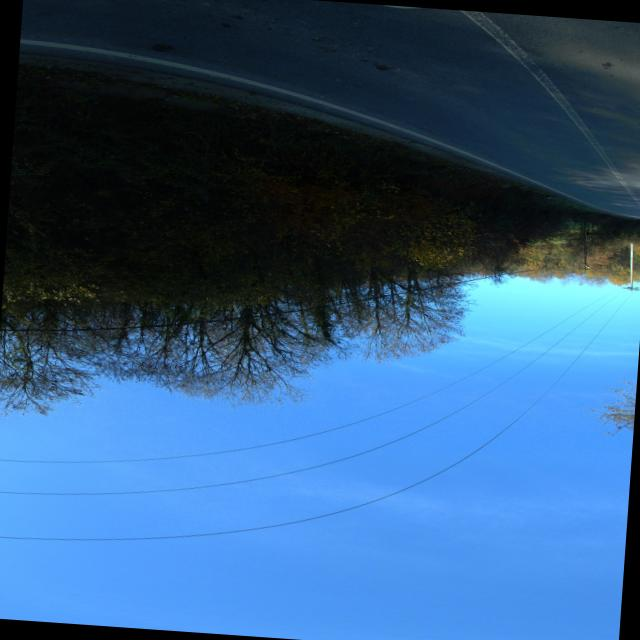Utility Pole Information Plate: (585, 231, 587, 233)
